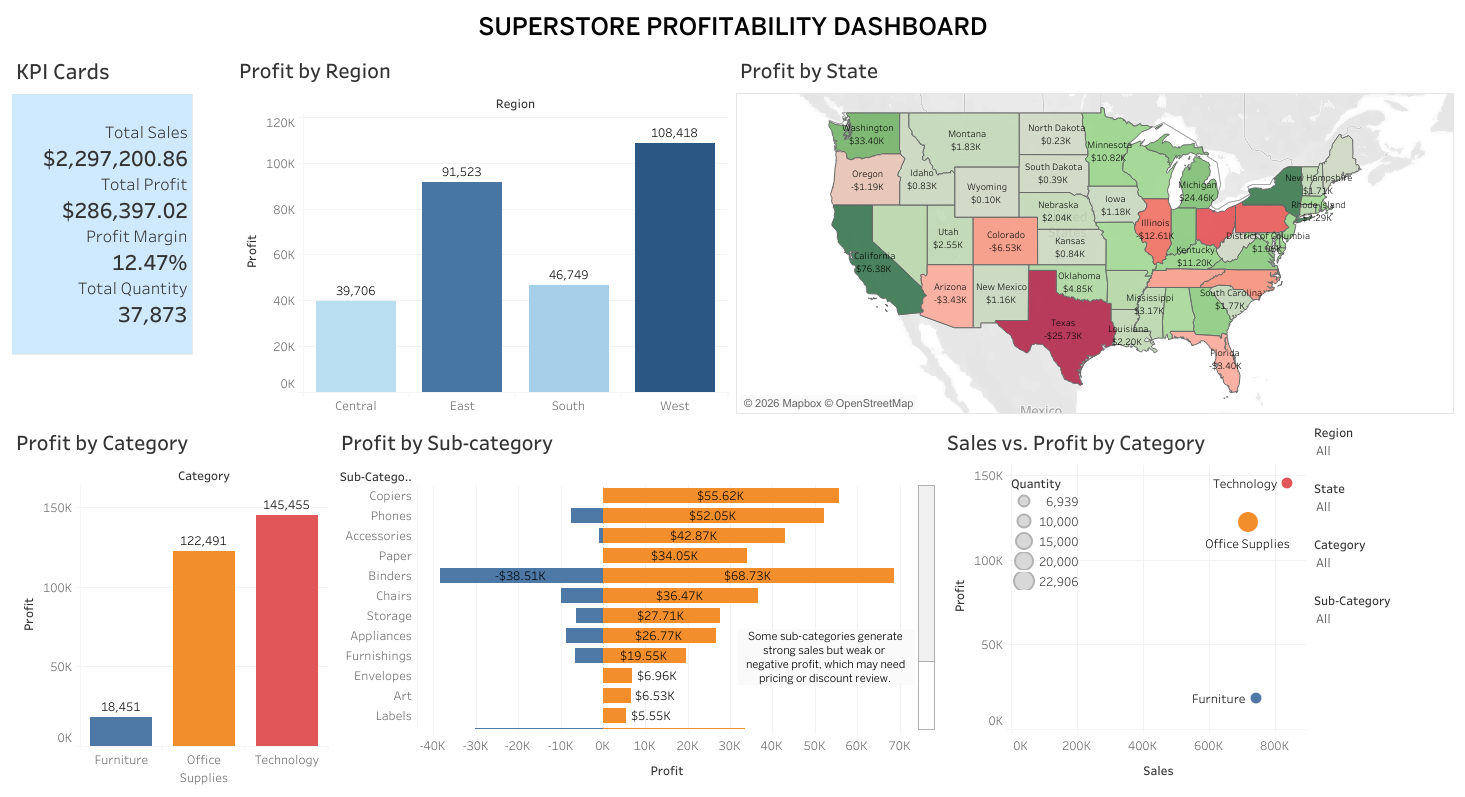

The dashboard page shown, as its layout file describes it:
{"tool":"tableau","page":{"name":"Superstore Dashboard","canvas":[1000,1000],"units":"permille","ordinal":0},"visuals":[{"type":"title","box":[6.4,11.1,987.3,51.5]},{"type":"worksheet","title":"KPI Cards","mark":"Text","box":[6.4,62.7,151.7,463.1]},{"type":"worksheet","title":"Region","mark":"Bar","rows":["Profit"],"cols":["Region"],"box":[158.1,62.7,341.5,463.1]},{"type":"worksheet","title":"State","mark":"Multipolygon","box":[499.6,62.7,494.1,463.1]},{"type":"worksheet","title":"Category","mark":"Bar","rows":["Profit"],"cols":["Category"],"box":[6.4,525.8,221.6,463.1]},{"type":"worksheet","title":"Sub-category","mark":"Automatic","rows":["Sub-Category"],"cols":["Profit"],"box":[228,525.8,401.9,463.1]},{"type":"worksheet","title":"Sales v Profit","mark":"Circle","rows":["Profit"],"cols":["Sales"],"box":[629.9,525.8,246.2,463.1]},{"type":"filter","title":"Region","param":"[federated.1fjqhmc12psfgr196f9sy16v8kak].[none:Region:nk]","box":[876.1,525.8,117.5,72.4]},{"type":"legend","title":"Sales v Profit","param":"[federated.1fjqhmc12psfgr196f9sy16v8kak].[sum:Quantity:qk]","box":[688.6,591.9,80.2,169.9]},{"type":"filter","title":"State","param":"[federated.1fjqhmc12psfgr196f9sy16v8kak].[none:State:nk]","box":[876.1,598.2,117.5,72.4]},{"type":"filter","title":"Category","param":"[federated.1fjqhmc12psfgr196f9sy16v8kak].[none:Category:nk]","box":[876.1,670.6,117.5,72.4]},{"type":"filter","title":"Sub-category","param":"[federated.1fjqhmc12psfgr196f9sy16v8kak].[none:Sub-Category:nk]","box":[876.1,743,117.5,72.4]}]}

Visuals, with their boxes on the dashboard's canvas, which has no fixed pixel size, in thousandths of its width and height (x1, y1, x2, y2). These are canvas units, not pixel positions in the 1465x797 screenshot, which may show the page scaled, cropped or inside an application window:
title: <bbox>6, 11, 994, 63</bbox>
"KPI Cards" worksheet (Text marks): <bbox>6, 63, 158, 526</bbox>
"Region" worksheet (Bar marks): <bbox>158, 63, 500, 526</bbox>
"State" worksheet (Multipolygon marks): <bbox>500, 63, 994, 526</bbox>
"Category" worksheet (Bar marks): <bbox>6, 526, 228, 989</bbox>
"Sub-category" worksheet: <bbox>228, 526, 630, 989</bbox>
"Sales v Profit" worksheet (Circle marks): <bbox>630, 526, 876, 989</bbox>
"Region" filter: <bbox>876, 526, 994, 598</bbox>
"Sales v Profit" legend: <bbox>689, 592, 769, 762</bbox>
"State" filter: <bbox>876, 598, 994, 671</bbox>
"Category" filter: <bbox>876, 671, 994, 743</bbox>
"Sub-category" filter: <bbox>876, 743, 994, 815</bbox>
